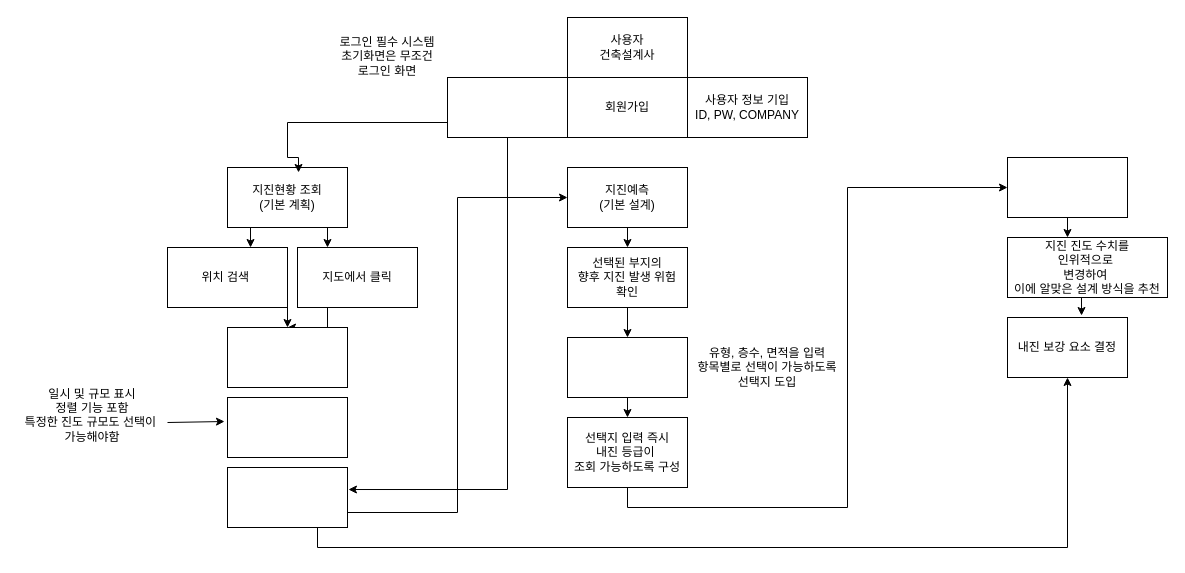
Image size: 1185x573. Some labels were removed from this diagram. The centre of each missing label's shape, as x and y in pixels:
건축물의 상세 정보를 입력한다.: point (627, 367)
내진설계 추천 (실시 설계): point (1067, 187)
로그인: point (507, 107)
선택된 부지의 과거 지진기록 상세 조회: point (287, 427)
위치 기록 저장: point (287, 497)
클릭하거나 검색한 위치의 지도화면 표시: point (287, 357)
